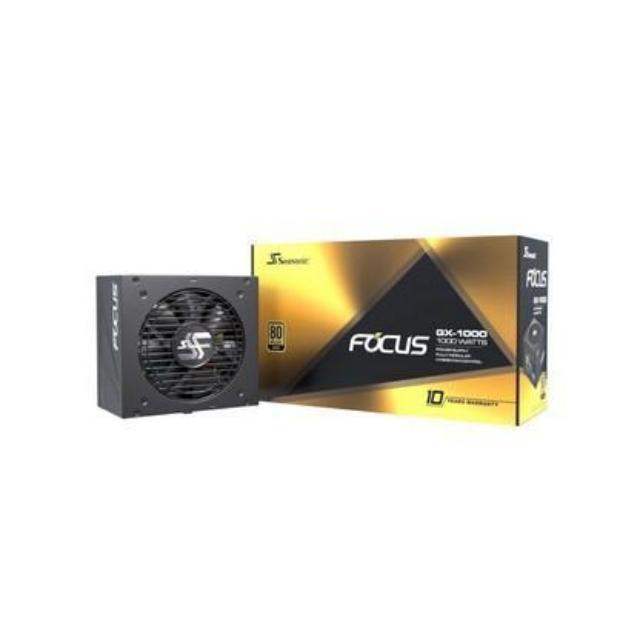PSU: (78, 266, 272, 426)
